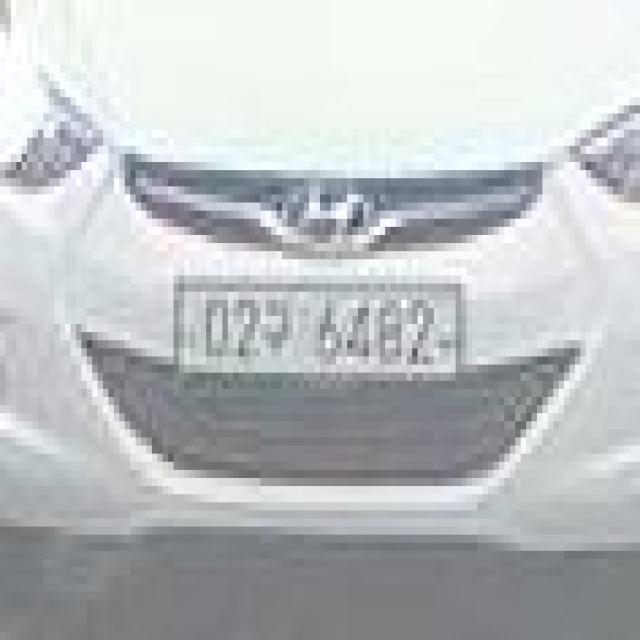illegal_plate: (173, 274, 467, 391)
